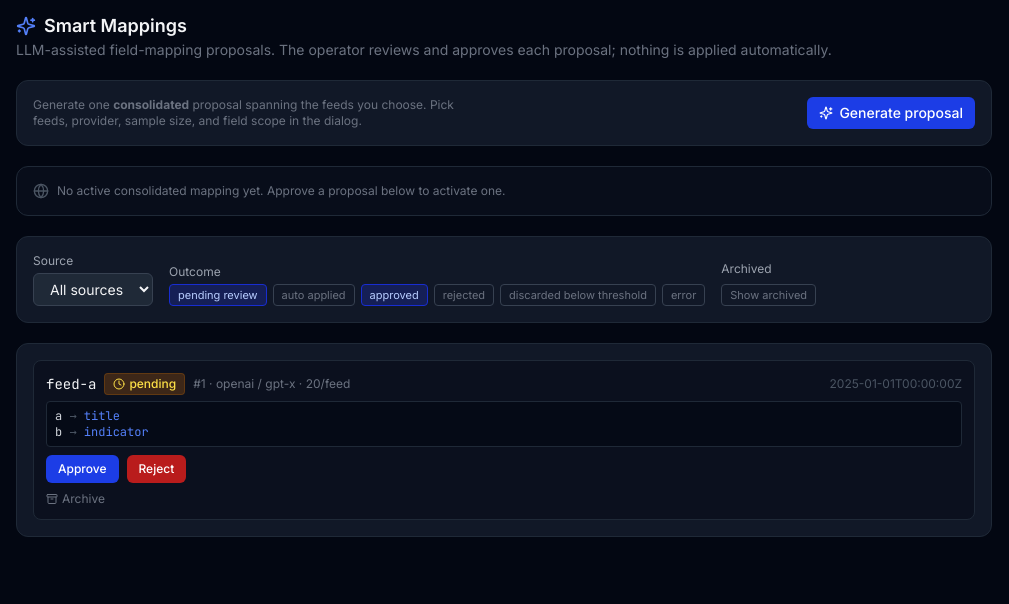
Scenario: SmartMappings page › surfaces the approve-response hint when normalizer is in auto mode
The image size is (1009, 604).
Click the button "Approve": coordinates (82, 469) [46, 455, 118, 483]
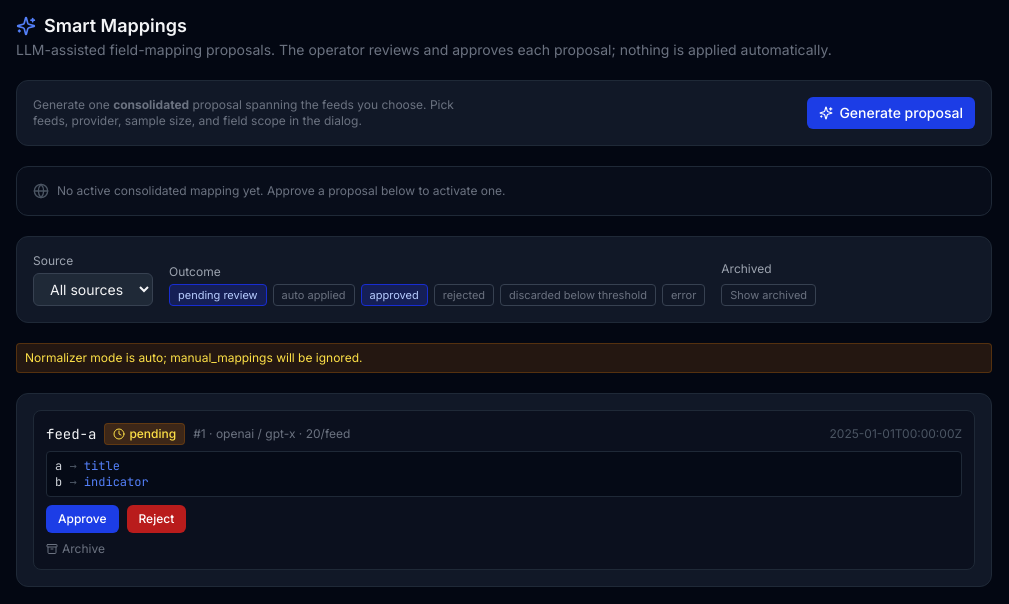
Now the text "Normalizer mode is auto; manual_mappings will be ignored." is shown, box [16, 343, 992, 373]
